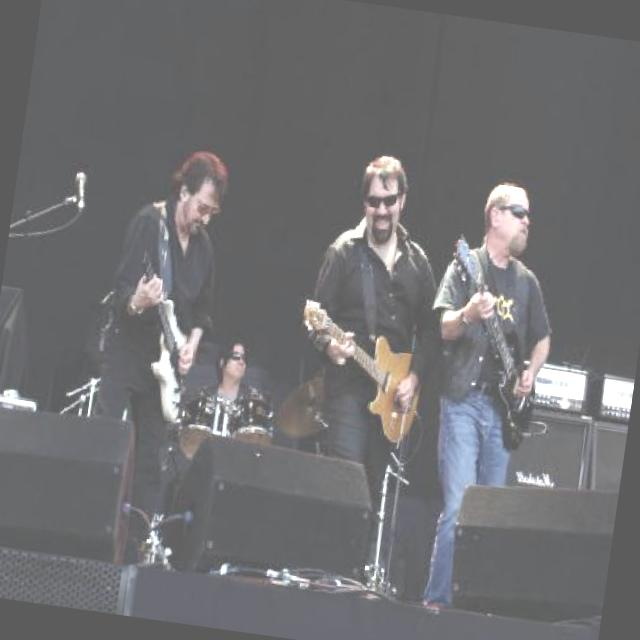Person: (268, 145, 465, 591), (410, 148, 588, 574), (74, 140, 237, 575), (180, 339, 283, 446)
